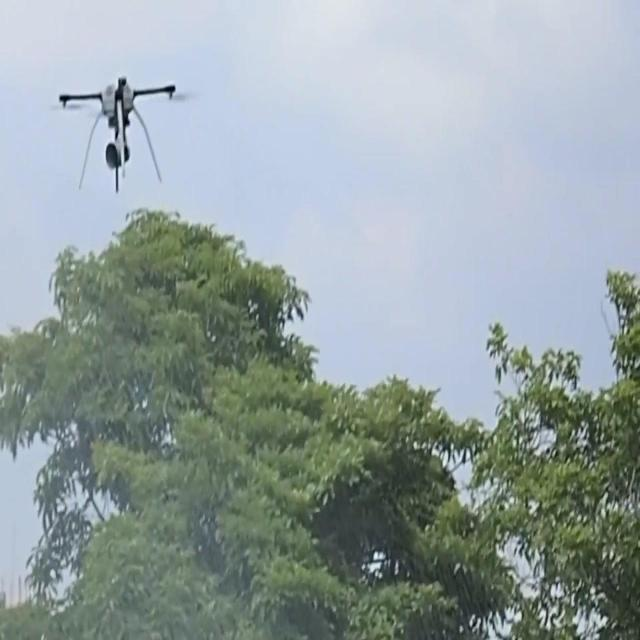drone: (59, 72, 192, 196)
